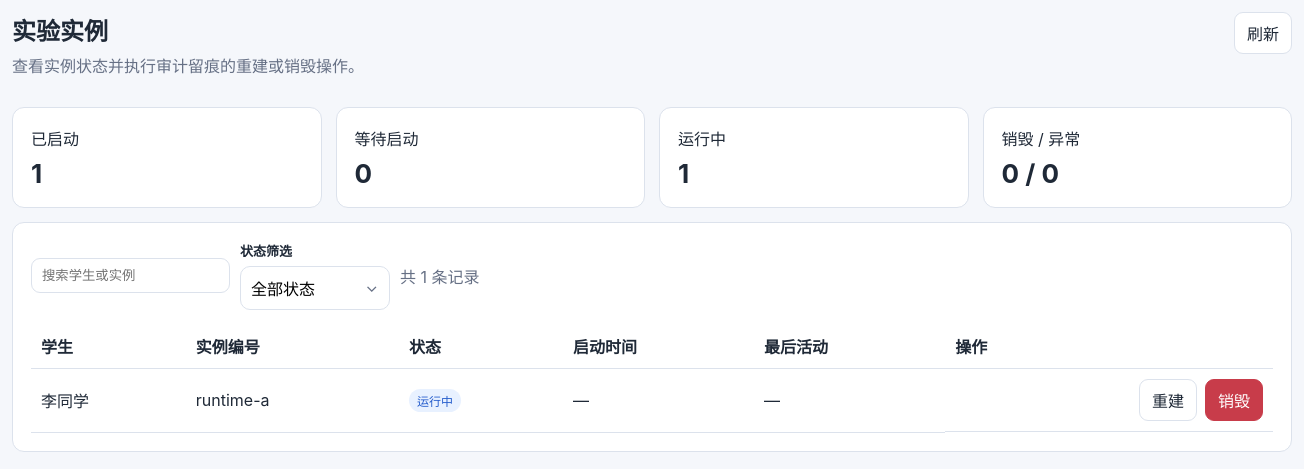
Test: 教师实例刷新失败后不把旧运行记录当作当前事实
Click the button "刷新" at (1263, 33), box [1234,12,1292,54]
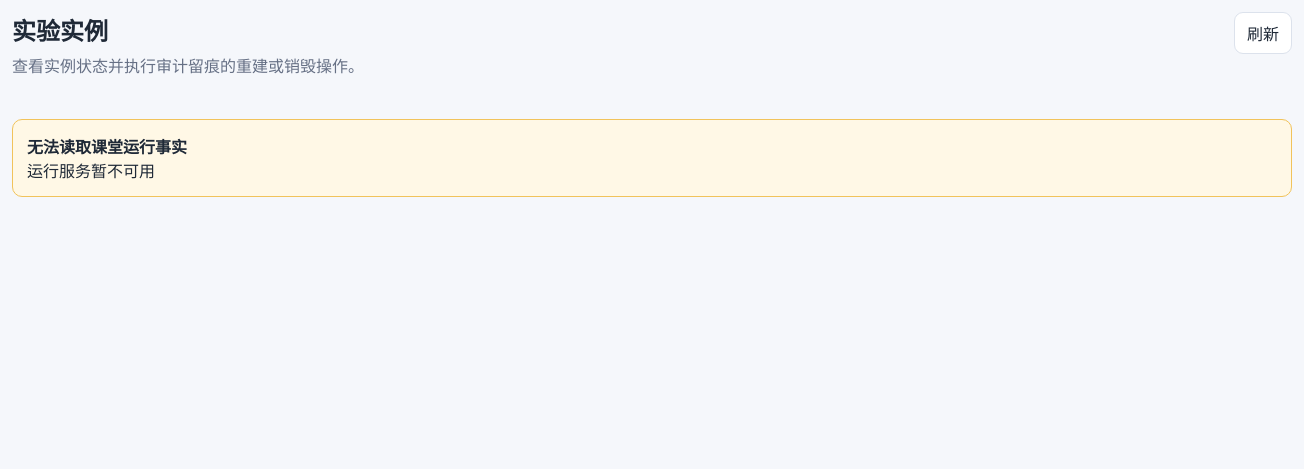
Check: the text "运行服务暂不可用" is shown, box [27,161,155,181]
Check: the text "李同学" is gone
Check: the text "已启动" is gone
